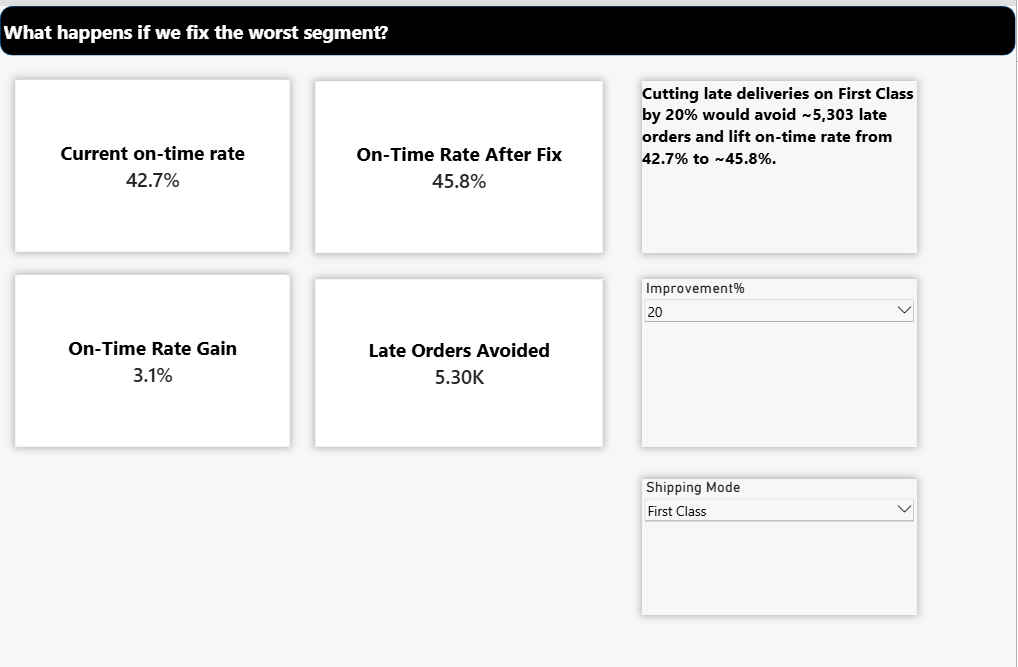

This screenshot's page, from the dashboard's own definition file:
{"tool":"powerbi","page":{"name":"Recommendation","canvas":[2000,1300],"ordinal":2},"visuals":[{"type":"shape","box":[0,0,1999,97.4],"z":0},{"type":"cardVisual","fields":{"Data":["Table.On-Time Rate"]},"box":[29.5,144.7,540.4,339.6],"z":5004},{"type":"cardVisual","fields":{"Data":["Target Mode.On-Time Rate After Fix"]},"box":[620.1,147.6,566.9,339.6],"z":5005},{"type":"cardVisual","fields":{"Data":["Target Mode.Late Orders Avoided"]},"box":[620.1,537.4,566.9,330.7],"z":5006},{"type":"cardVisual","fields":{"Data":["Target Mode.On-Time Rate Gain"]},"box":[29.5,528.5,540.4,339.6],"z":5007},{"type":"slicer","fields":{"Values":["Improvement%.Improvement%"]},"box":[1263.8,537.4,540.4,330.7],"z":5008},{"type":"textbox","box":[1263.8,147.6,540.4,339.6],"z":5009},{"type":"slicer","fields":{"Values":["Target Mode.Shipping Mode"]},"box":[1263.8,930.1,540.4,268.7],"z":5010}]}

Visuals, with their boxes in screenshot pixels (x1, y1, x2, y2), scaled from the page's 2000x1300 canvas onto the 1018x667 screenshot:
shape: [0,0,1017,50]
cardVisual - Table.On-Time Rate: [15,74,290,248]
cardVisual - Target Mode.On-Time Rate After Fix: [316,76,604,250]
cardVisual - Target Mode.Late Orders Avoided: [316,276,604,445]
cardVisual - Target Mode.On-Time Rate Gain: [15,271,290,445]
slicer - Improvement%.Improvement%: [643,276,918,445]
textbox: [643,76,918,250]
slicer - Target Mode.Shipping Mode: [643,477,918,615]
